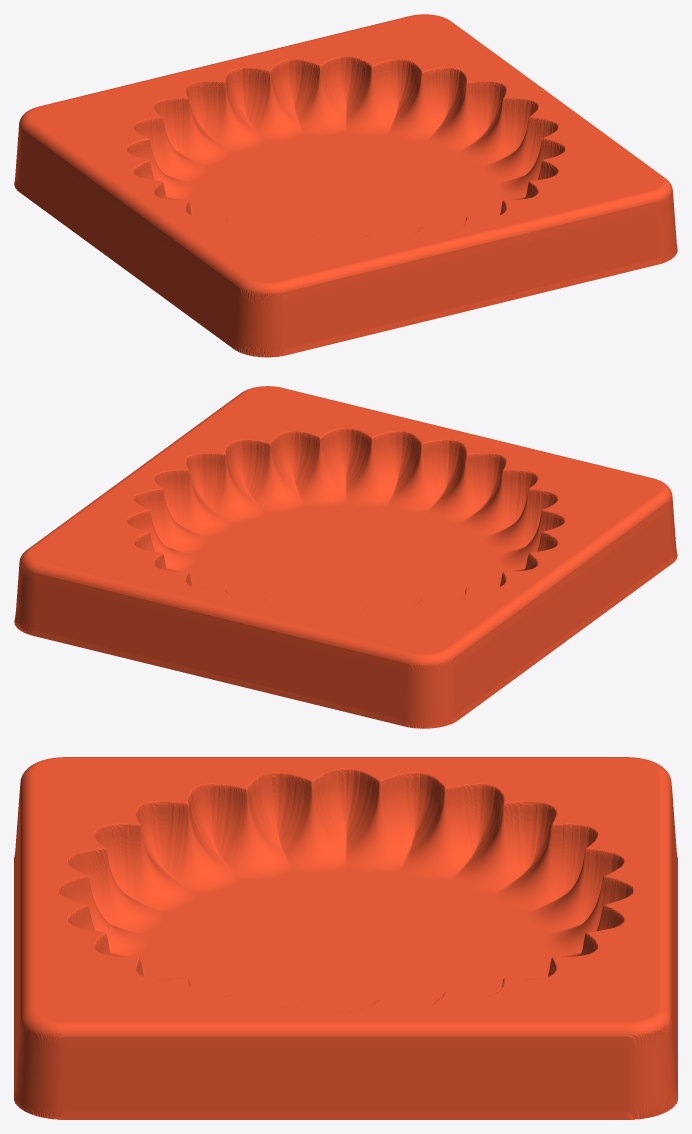
Rendered from mold.glb.
3 renders of one model, top to bottom at view 1: azimuth 30°, elevation 25°; view 2: azimuth 150°, elevation 25°; view 3: azimuth 270°, elevation 25°, orthographic. The views are drawn at different scales.
Visible parts, largest first — view 1: geometry_0; view 2: geometry_0; view 3: geometry_0.
Boxes of the visible parts, x1,y1,x2,y2 form: geometry_0: [14, 14, 677, 357]; geometry_0: [14, 386, 677, 728]; geometry_0: [14, 757, 677, 1119].
Size of the model in its own units: 0.1178 by 0.0175 by 0.1178.
